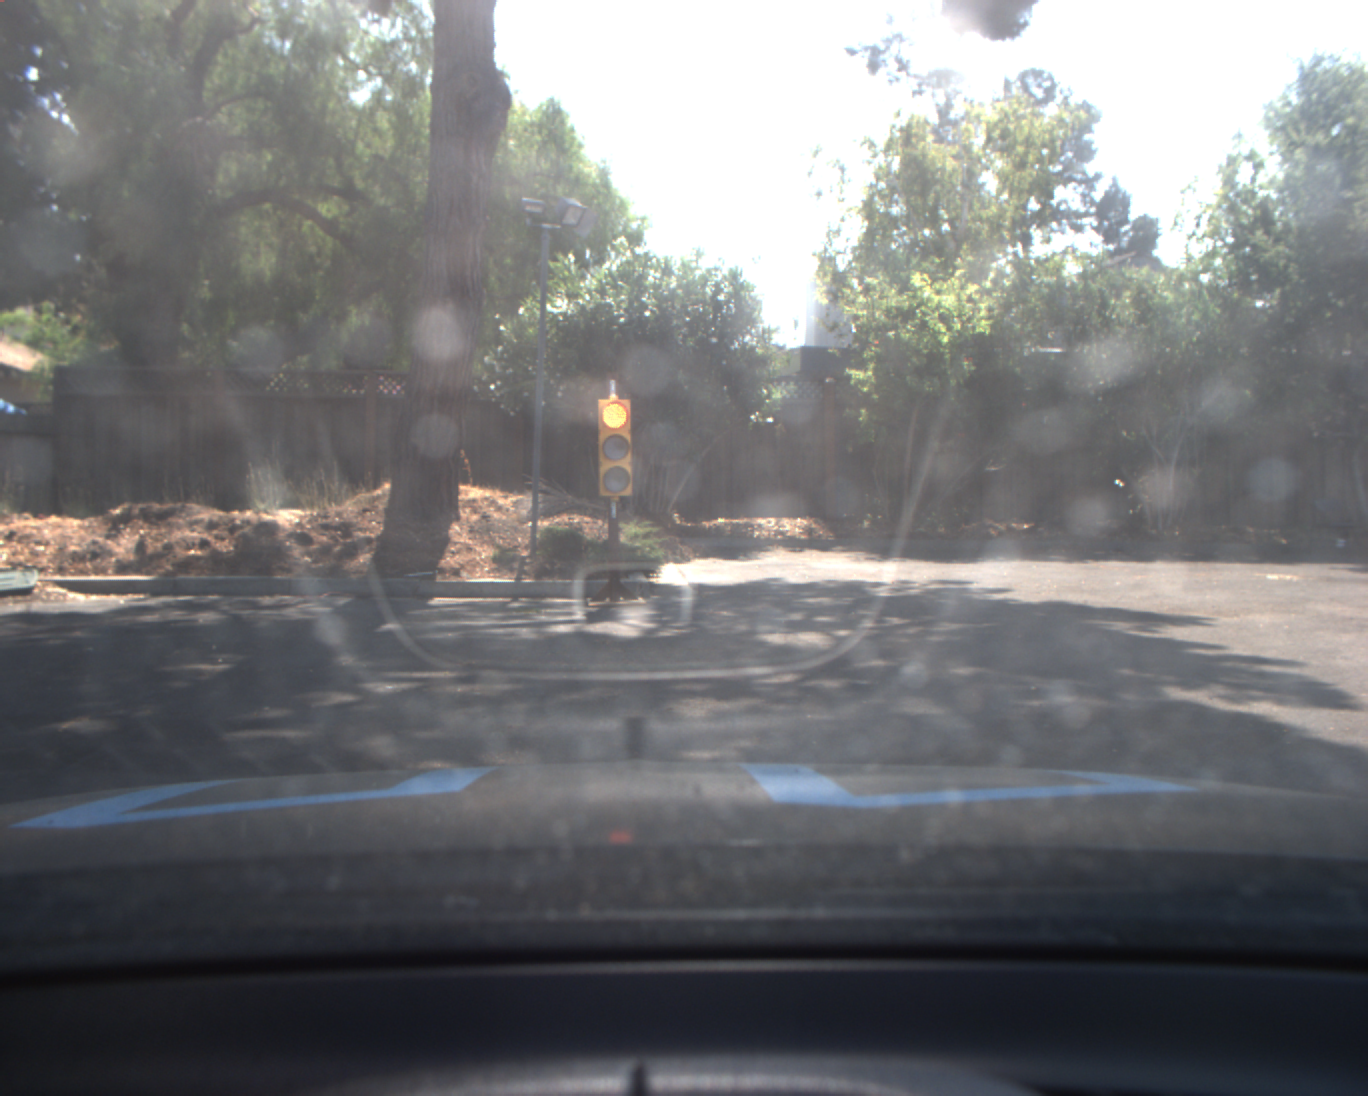red: (594, 393, 636, 499)
